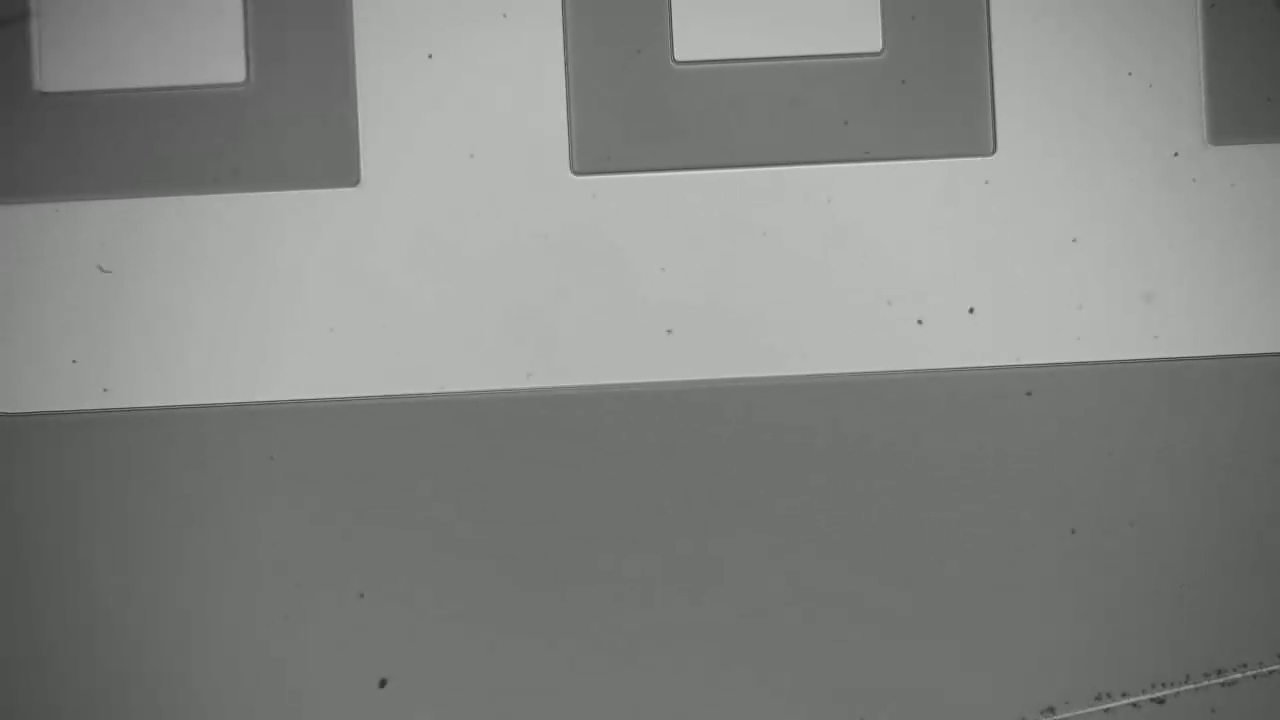scratch: (1054, 664, 1280, 715)
